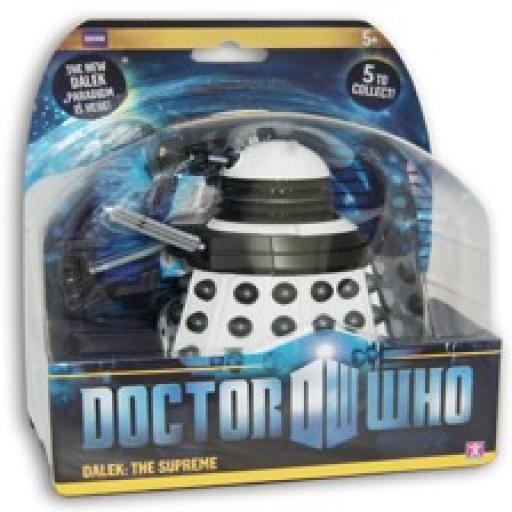dalek: (97, 130, 410, 386)
